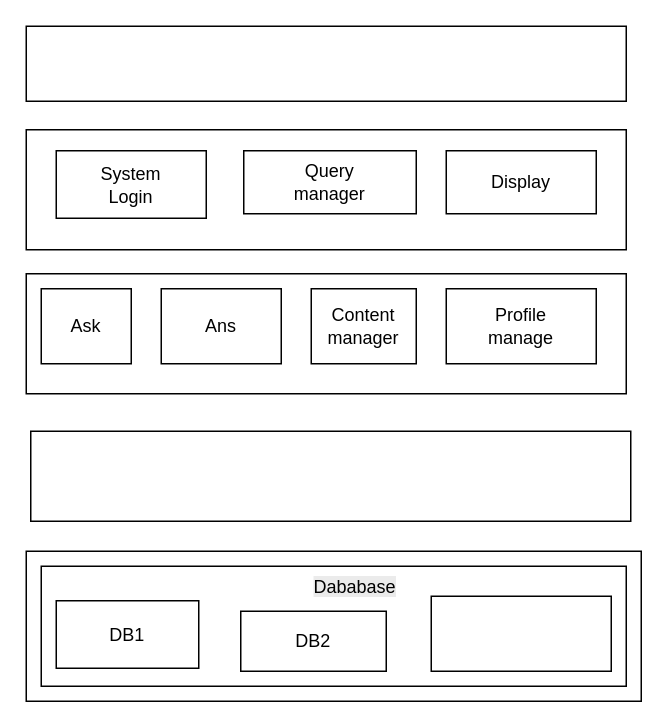
Some shapes in this 668 by 728 pixel diagram are drawn without their labels. Each missing label, with the centre of its shape:
DB3: the point at 520,633
Question or Answer Index: the point at 330,475
Web browser Interface: the point at 325,63
